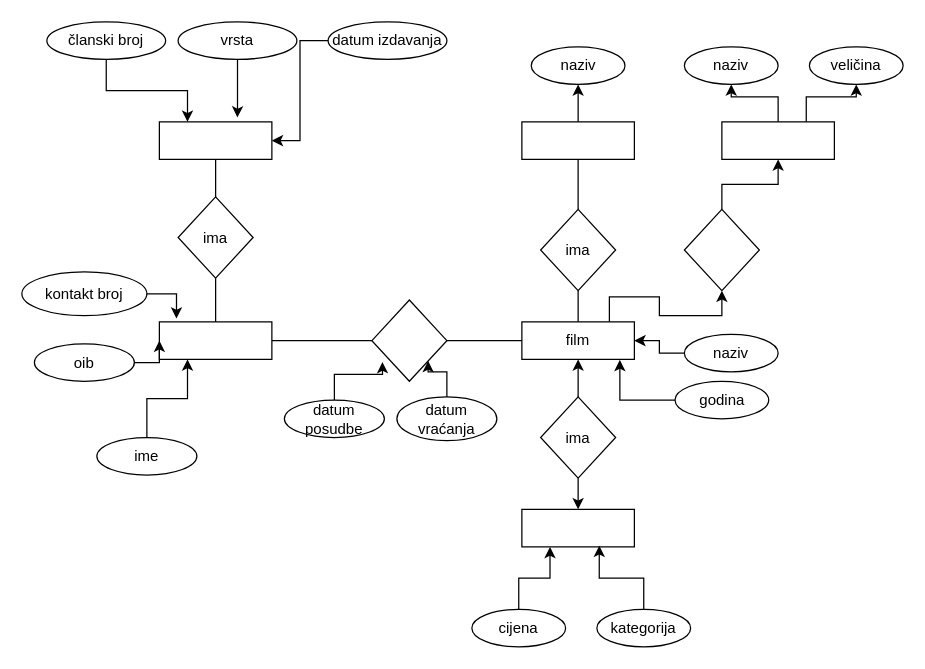
The diagram is 925 pixels wide and 669 high, and some of its shapes have lost their labels. Each missing label, with the centre of its shape:
cjenik: (x=577, y=527)
medij: (x=777, y=140)
nalazi se: (x=721, y=249)
posuđuje: (x=409, y=340)
član: (x=215, y=340)
članska iskaznica: (x=215, y=140)
žanr: (x=577, y=140)
